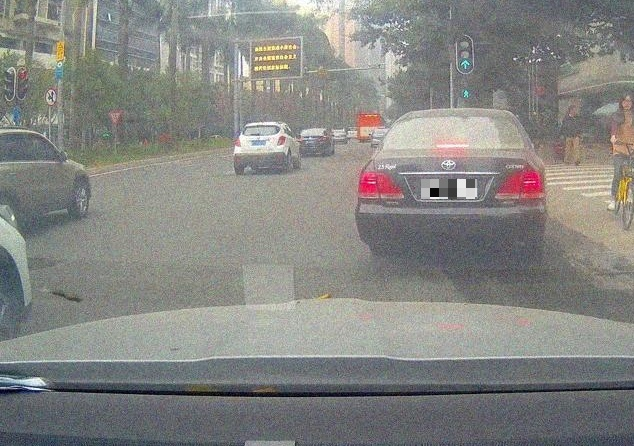L_light: (357, 171, 404, 198), (234, 137, 241, 147)
R_light: (495, 170, 545, 198), (277, 135, 286, 145)
T_light: (436, 143, 470, 149), (257, 125, 266, 128)
day-brake: (355, 108, 546, 258)
day-no: (233, 122, 286, 174)
plate_1: (421, 179, 477, 199)
